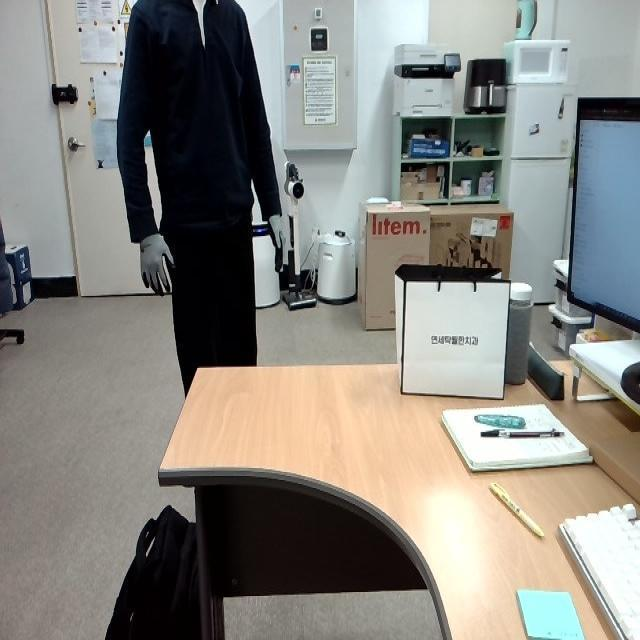gloved_hand: (130, 231, 183, 299), (262, 209, 295, 275)
